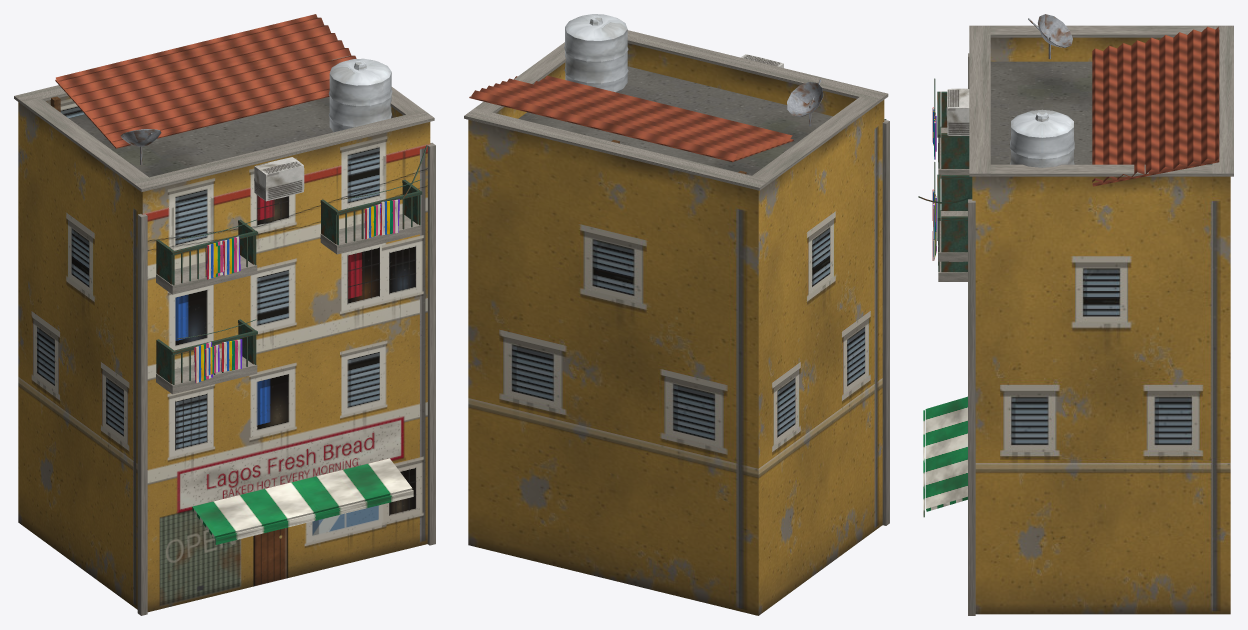
File: env_building_b-DU4O2SfK.glb
The picture shows the model from 3 angles, left to right: view 1: azimuth 30°, elevation 25°; view 2: azimuth 150°, elevation 25°; view 3: azimuth 270°, elevation 25°; orthographic projection. The views are drawn at different scales.
Parts seen in each view (by area): view 1: env_building_b_body; view 2: env_building_b_body; view 3: env_building_b_body.
Part boxes in pixels (bbox=[...]): env_building_b_body: bbox=[14, 14, 435, 615]; env_building_b_body: bbox=[464, 14, 889, 615]; env_building_b_body: bbox=[918, 14, 1233, 615].
Size of the model in its own units: 3.29 by 4.94 by 2.94.
Materials: 1 (1 with a texture image).
